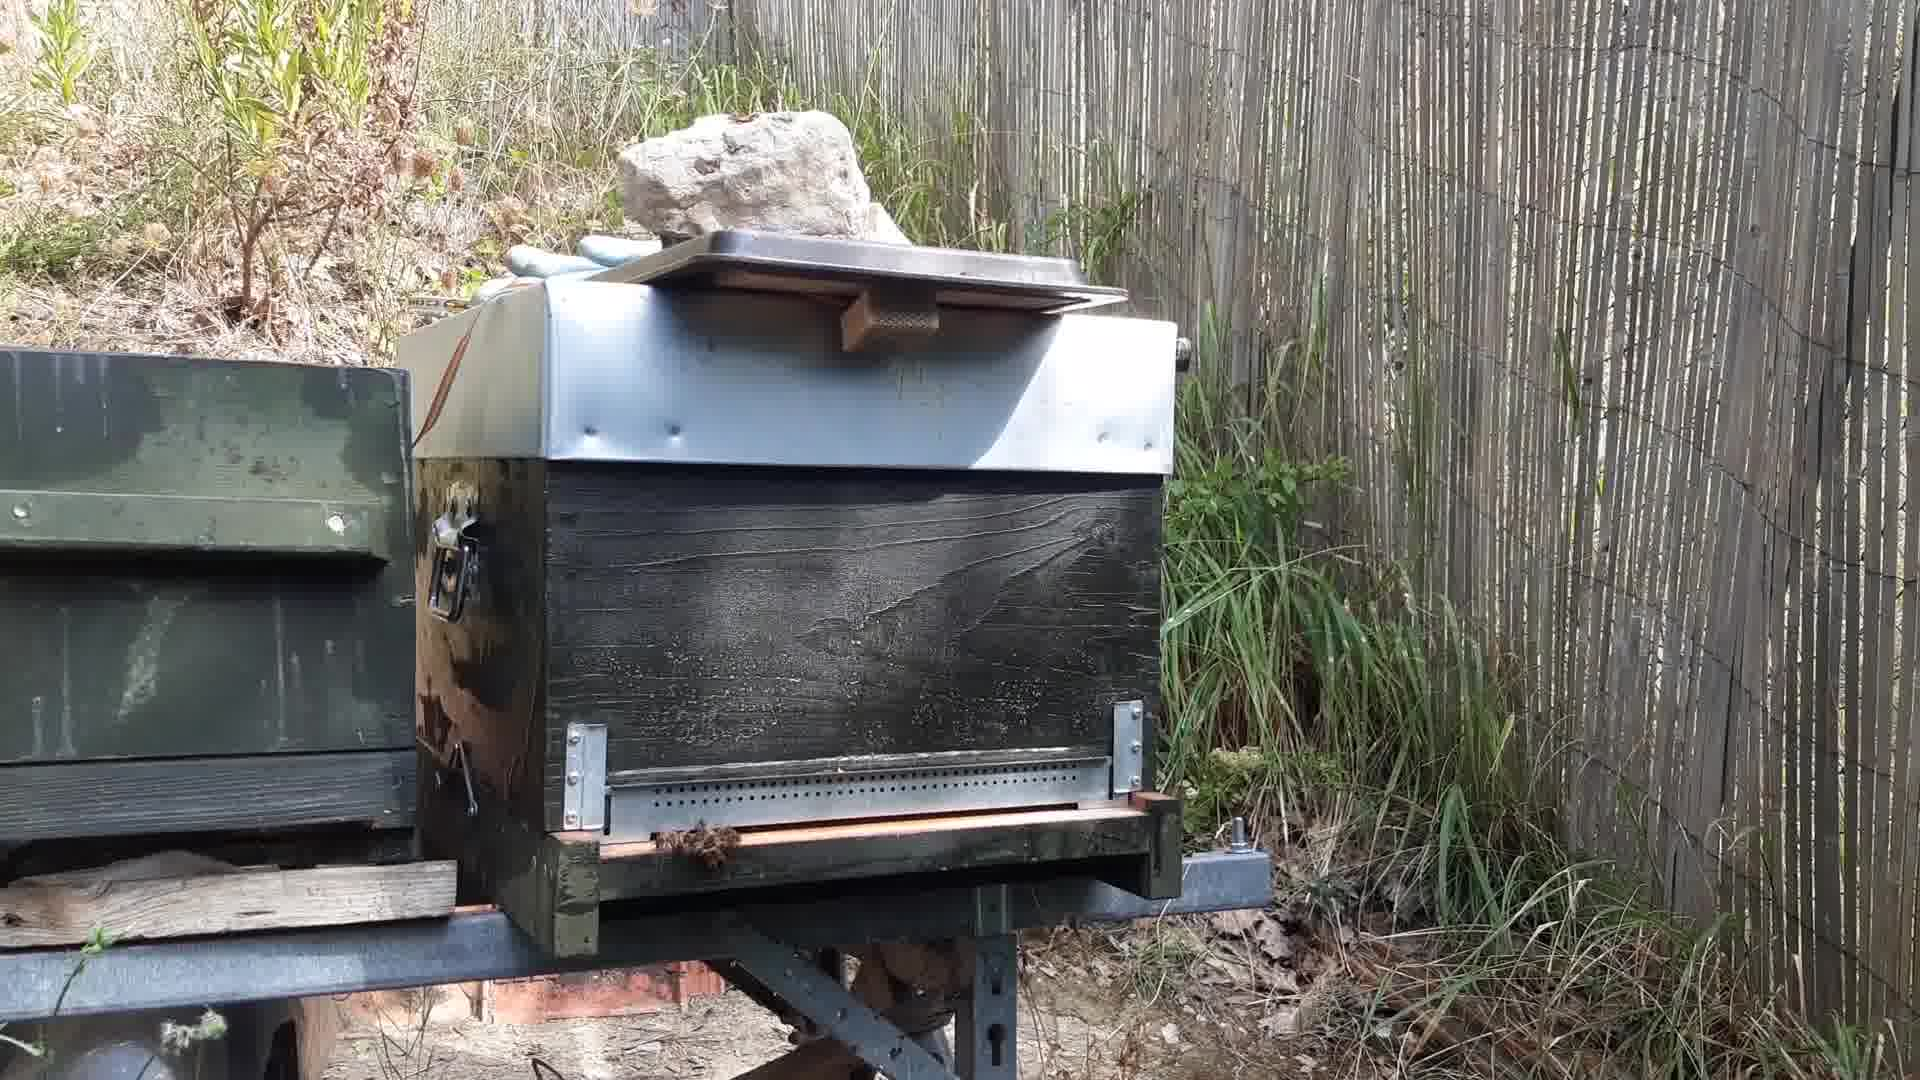bee: (653, 818, 741, 870)
